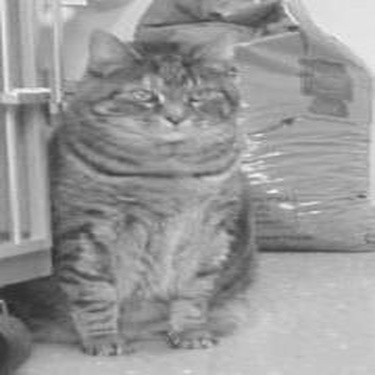cat: (26, 8, 245, 353)
